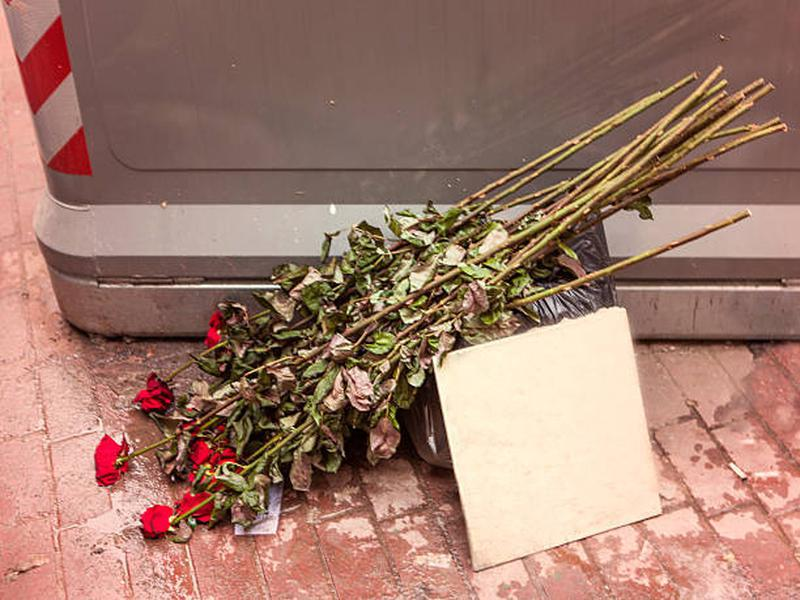flowers: (77, 266, 312, 562)
paper: (433, 301, 685, 571)
